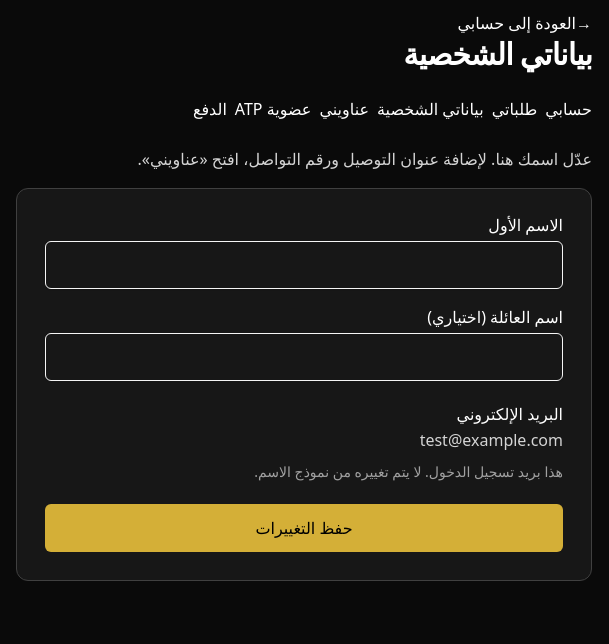
Test: Profile form › keeps the entered name after a failed save
Type "سعود" into the field labelled "الاسم الأول" at point(304, 265), box [45, 241, 563, 289]
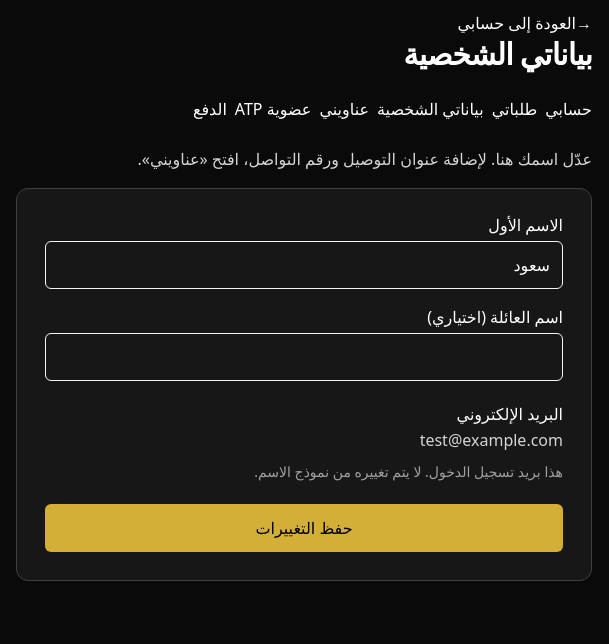
Click the button "حفظ التغييرات" at point(304, 528), box [45, 504, 563, 552]
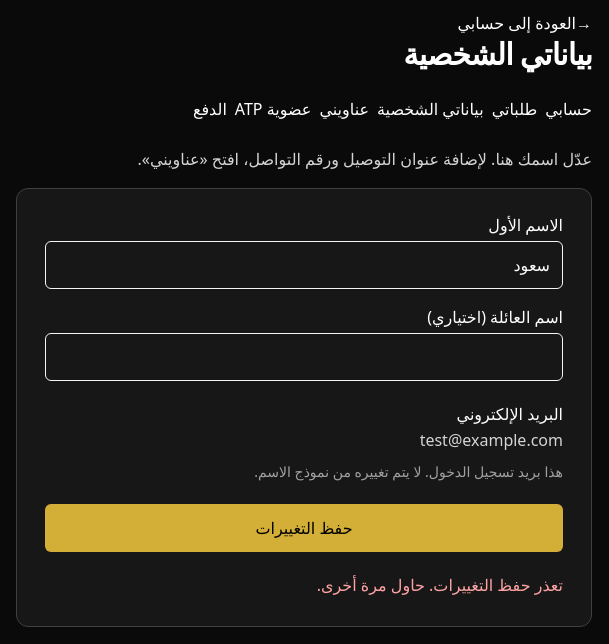
Now the message shows "تعذر", box [317, 574, 563, 596]
